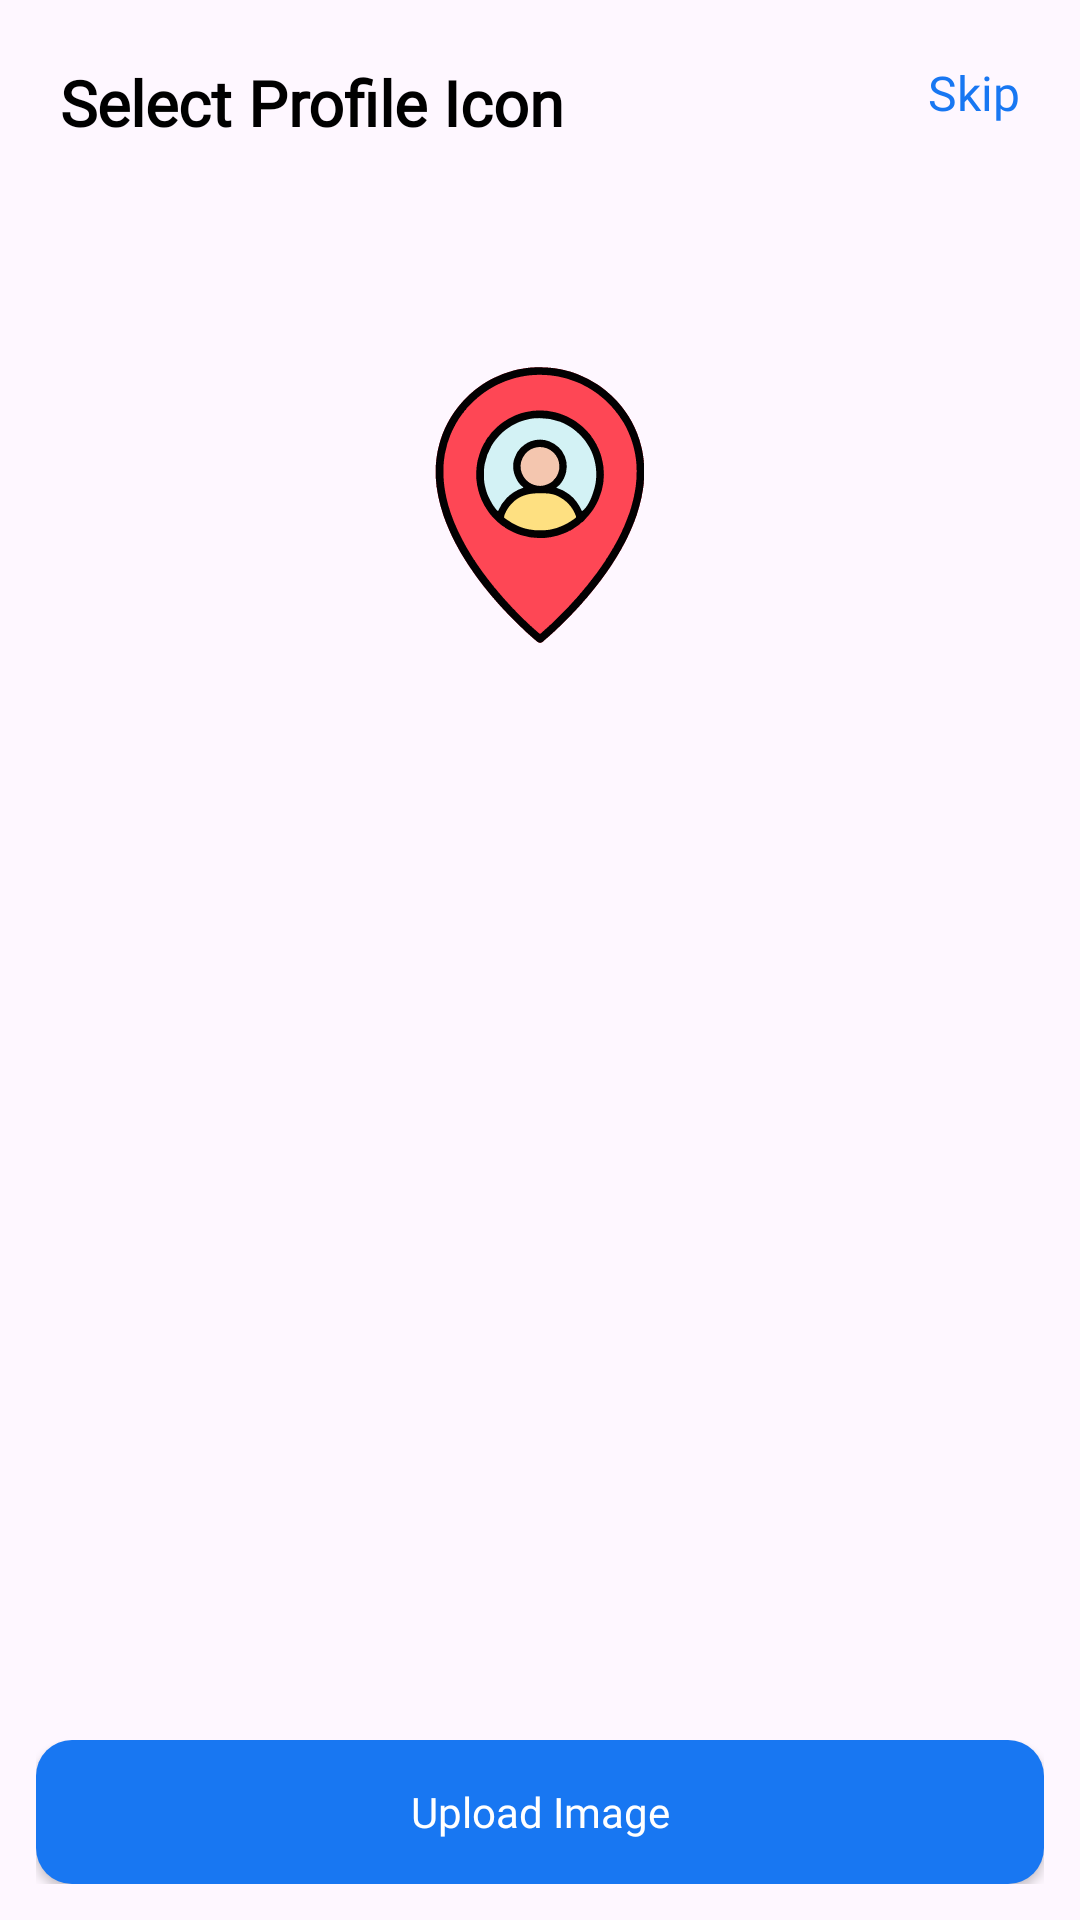

Point at icon controls on the screen. Image size 1080*1920, points as (x,y).
location: (539,505)
